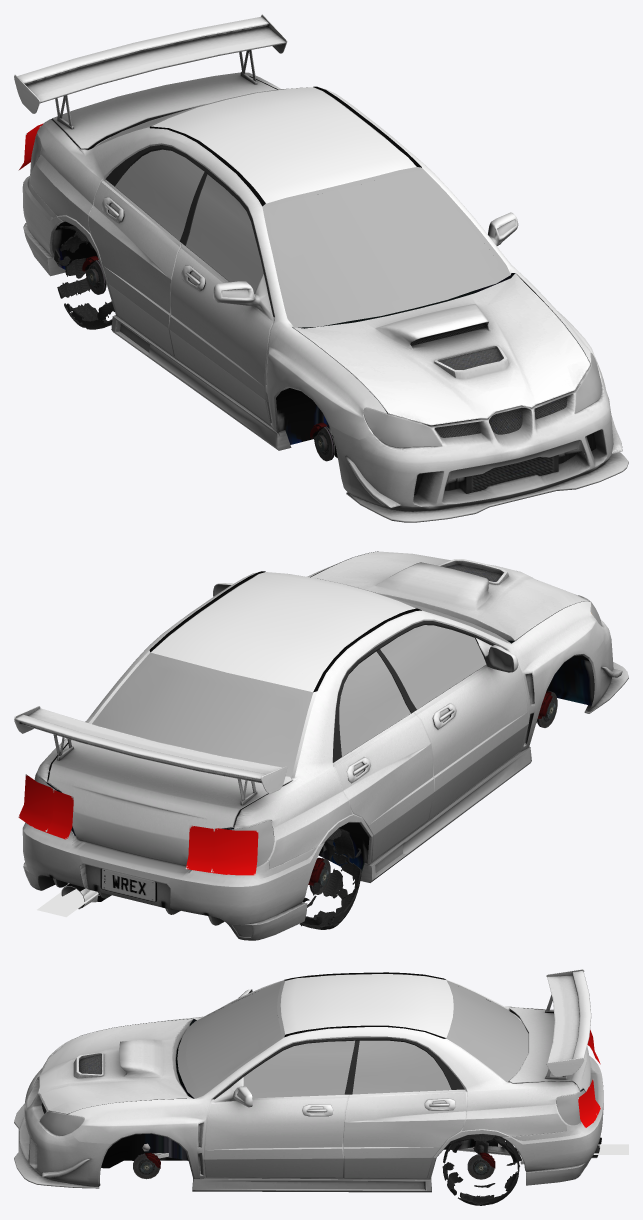
File: 18_WRX.fbx
The picture shows the model from 3 angles, top to bottom: view 1: azimuth 30°, elevation 25°; view 2: azimuth 150°, elevation 25°; view 3: azimuth 270°, elevation 25°; orthographic projection. The views are drawn at different scales.
Parts seen in each view (by area): view 1: Body_Duco, Kit_00_Duco, Body_Glass, Kit_00_Matte, Body_Matte; view 2: Body_Duco, Kit_00_Duco, Body_Glass, BrakeLights, Body_Matte, NumberPlate, NitroFlame_1; view 3: Body_Duco, Kit_00_Duco, Body_Glass, Body_Matte, Rotor (×2), BrakeLights, Kit_00_Matte.
Part boxes in pixels (box(x1,y1,x2,y2)): Body_Duco: box(30, 72, 603, 439); Kit_00_Duco: box(14, 14, 628, 522); Body_Glass: box(30, 87, 601, 447); Kit_00_Matte: box(292, 273, 596, 494); Body_Matte: box(52, 221, 465, 458); Body_Duco: box(37, 563, 603, 869); Kit_00_Duco: box(14, 551, 628, 940); Body_Glass: box(34, 575, 601, 866); BrakeLights: box(18, 774, 258, 875); Body_Matte: box(62, 649, 594, 908); NumberPlate: box(100, 868, 157, 901); NitroFlame_1: box(37, 889, 98, 917); Body_Duco: box(68, 972, 590, 1180); Kit_00_Duco: box(14, 969, 603, 1192); Body_Glass: box(39, 980, 585, 1135); Body_Matte: box(101, 992, 520, 1168); Rotor (×2): box(133, 1153, 494, 1179); BrakeLights: box(578, 1030, 600, 1128); Kit_00_Matte: box(42, 1018, 196, 1113).
Size of what is drawn, in the model's own units: 1.99 by 1.4 by 4.77.
